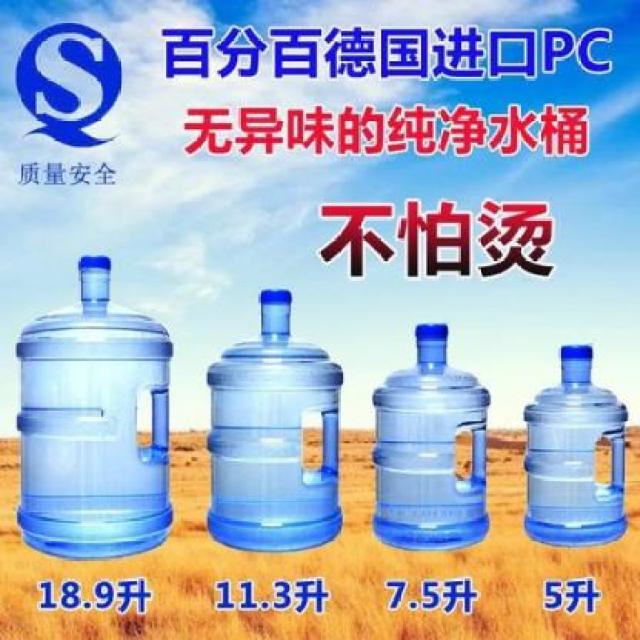coolerbottle: (9, 252, 182, 566), (203, 285, 349, 559), (368, 314, 496, 554), (518, 336, 632, 548)
